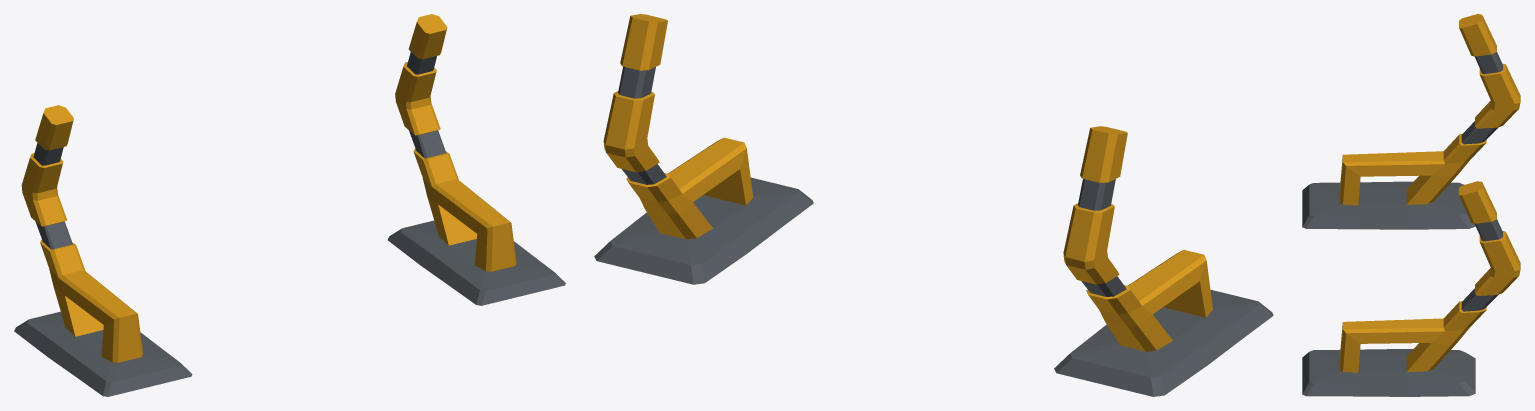
Rendered from Dropship_05_Rear_Landers_Yellow.fbx.
3 views of the same model, side by side, from view 1: azimuth 30°, elevation 25°; view 2: azimuth 150°, elevation 25°; view 3: azimuth 270°, elevation 25° (orthographic). The views are drawn at different scales.
Parts seen in each view (by area): view 1: Dropship_05_Rear_Landers_Yellow; view 2: Dropship_05_Rear_Landers_Yellow; view 3: Dropship_05_Rear_Landers_Yellow.
Part boxes in pixels (bbox=[...]): Dropship_05_Rear_Landers_Yellow: bbox=[14, 14, 565, 396]; Dropship_05_Rear_Landers_Yellow: bbox=[594, 14, 1273, 396]; Dropship_05_Rear_Landers_Yellow: bbox=[1302, 14, 1520, 396].
Size of the model in its own units: 462 by 198 by 205.
Materials: 1 (1 with a texture image).
